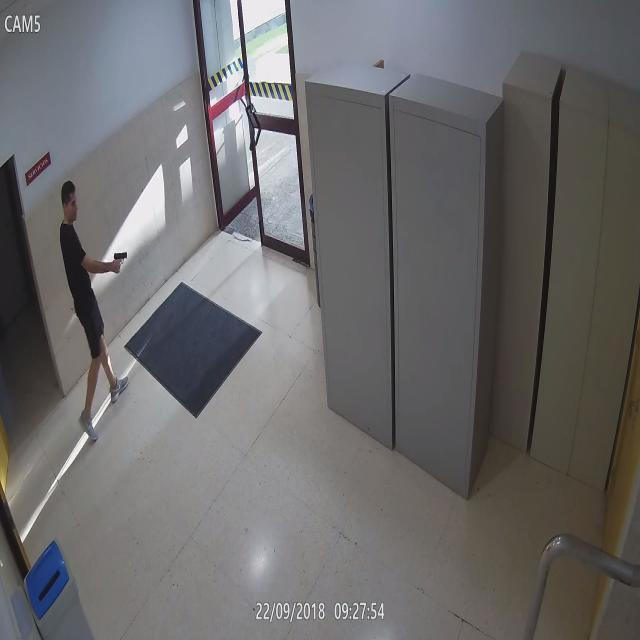weapon: (112, 253, 128, 275)
